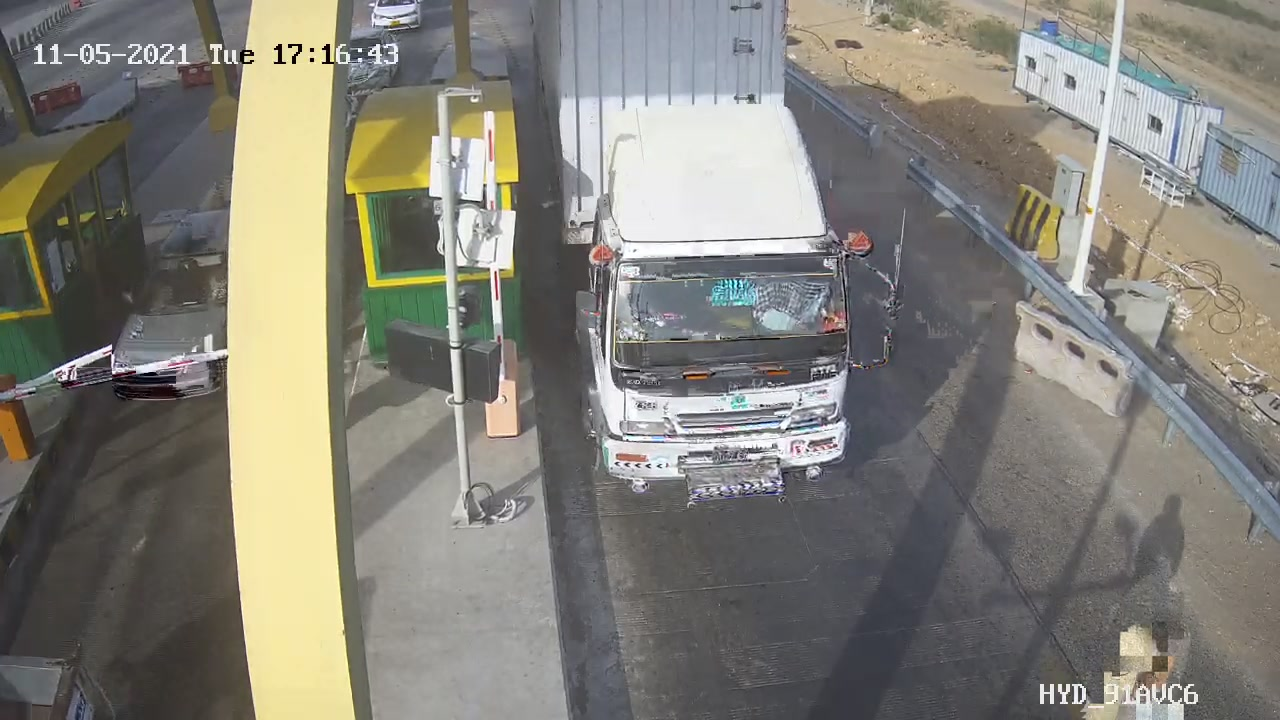F6: (517, 3, 924, 535)
